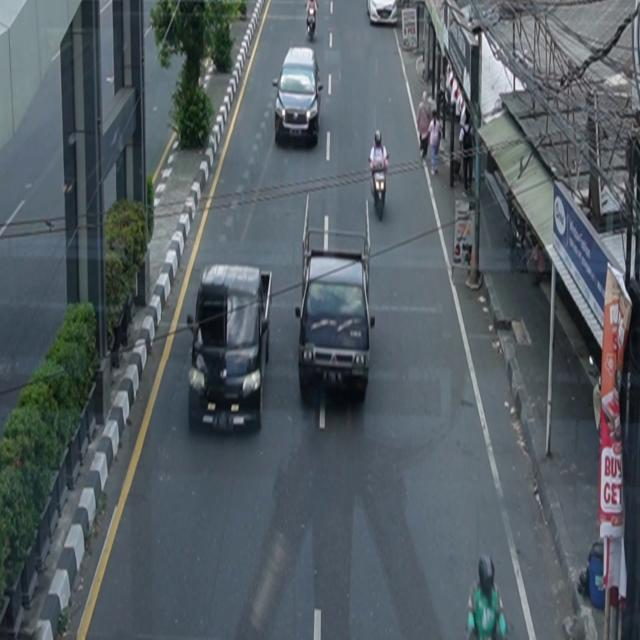car: (273, 46, 325, 146), (367, 1, 398, 26)
truck: (296, 193, 376, 405), (188, 264, 274, 436)
